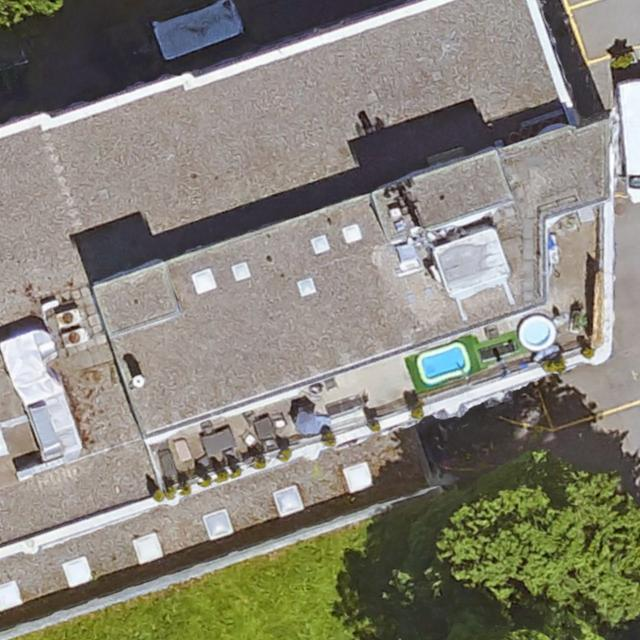tree: (395, 451, 640, 640)
